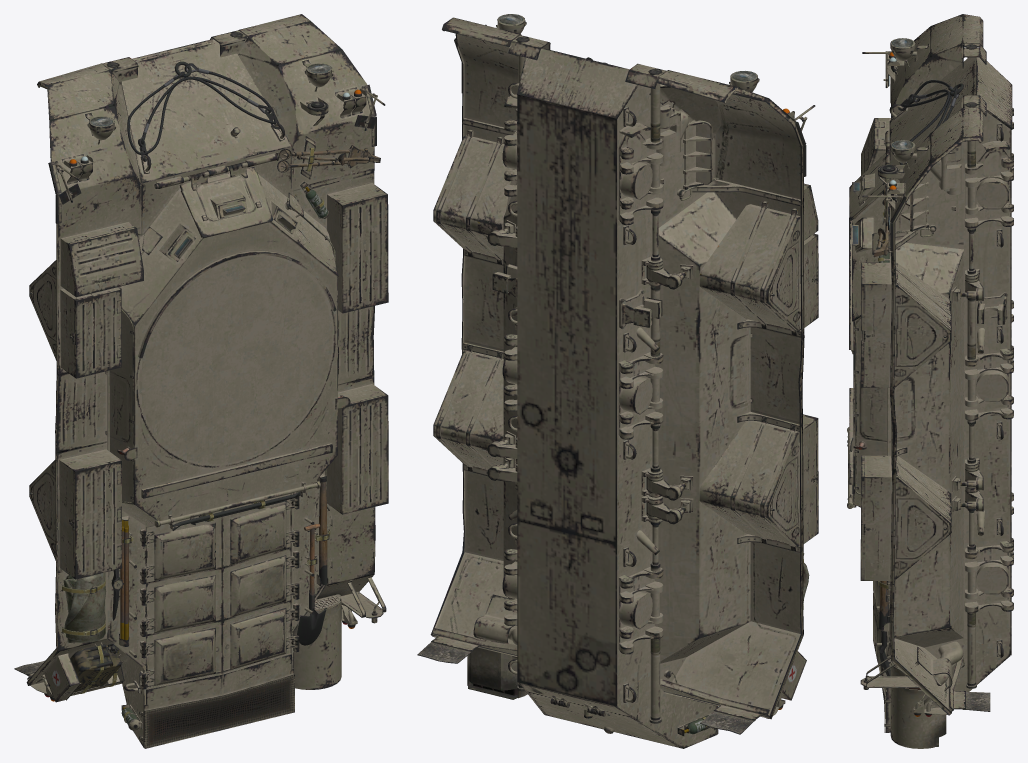
File: Hull.glb
3 renders of one model, left to right at view 1: azimuth 30°, elevation 25°; view 2: azimuth 150°, elevation 25°; view 3: azimuth 270°, elevation 25°, orthographic. The views are drawn at different scales.
Parts seen in each view (by area): view 1: set_0_group_0; view 2: set_0_group_0; view 3: set_0_group_0.
Boxes of the visible parts, x1=… form: set_0_group_0: x1=14, y1=14, x2=388, y2=748; set_0_group_0: x1=417, y1=14, x2=818, y2=748; set_0_group_0: x1=847, y1=14, x2=1013, y2=748.
Bounding box in the file's own units: 2.55 × 4.93 × 1.2.
Materials: 1 (1 with a texture image).
